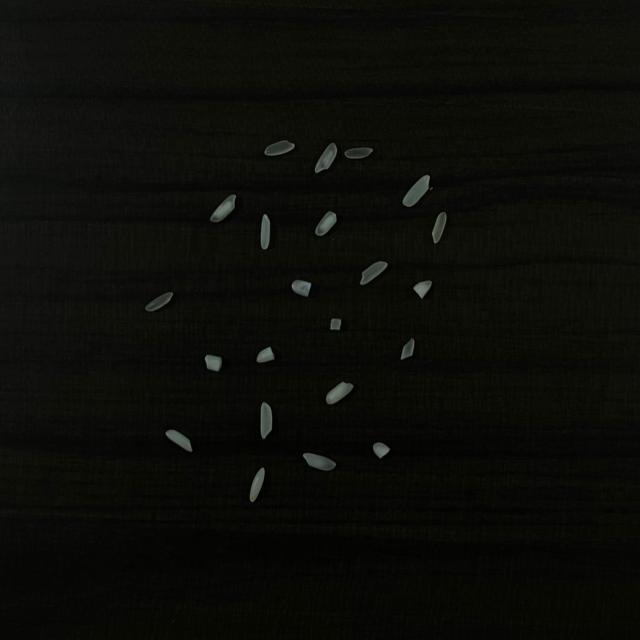Broken: (326, 381, 354, 404), (292, 280, 312, 298), (399, 338, 415, 360), (413, 281, 432, 299), (203, 354, 223, 371), (256, 346, 276, 363), (373, 441, 390, 459), (330, 318, 342, 330)
Full: (402, 175, 430, 207), (210, 195, 237, 222), (359, 262, 388, 286), (315, 143, 337, 173), (166, 429, 193, 452), (303, 453, 336, 471), (249, 467, 265, 503), (315, 211, 337, 236), (146, 292, 173, 312), (264, 140, 295, 156), (260, 402, 272, 439), (432, 212, 446, 243), (260, 214, 270, 250), (344, 148, 374, 158)
